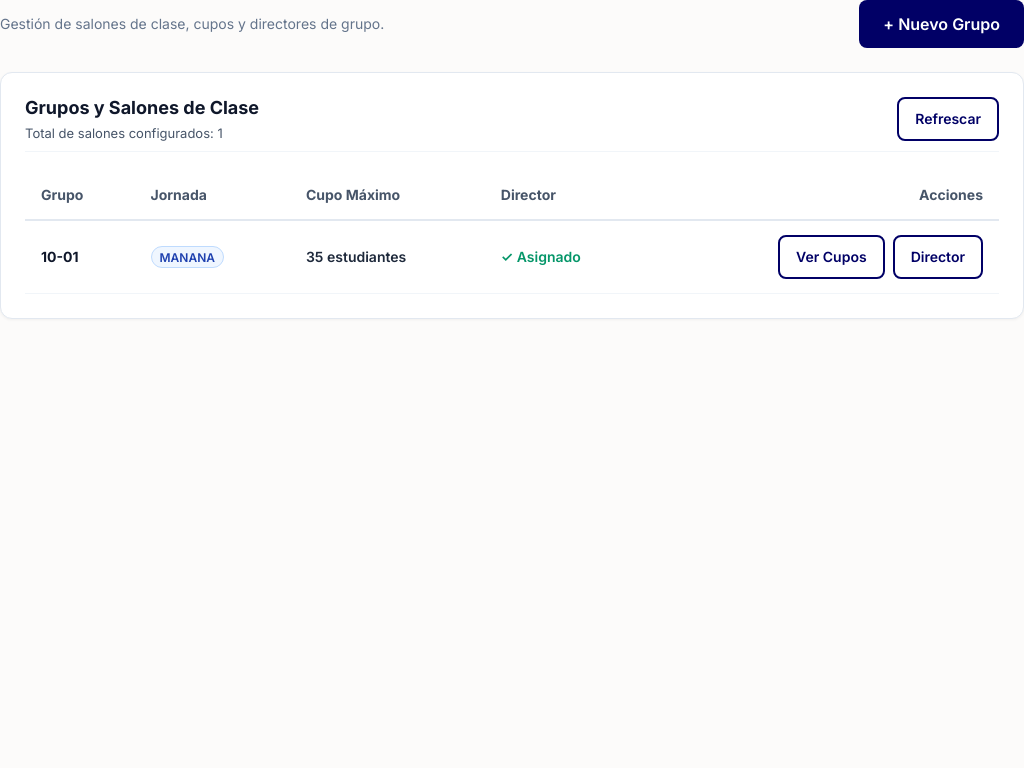
it: Academic Management Views › renders GroupsView and opens real-time capacity inspector modal
The width and height of the screenshot is (1024, 768).
Expected: the text "10-01" is shown, [25,220,134,293]
Click the button "Ver Cupos" at (831, 257), box [778,235,885,279]
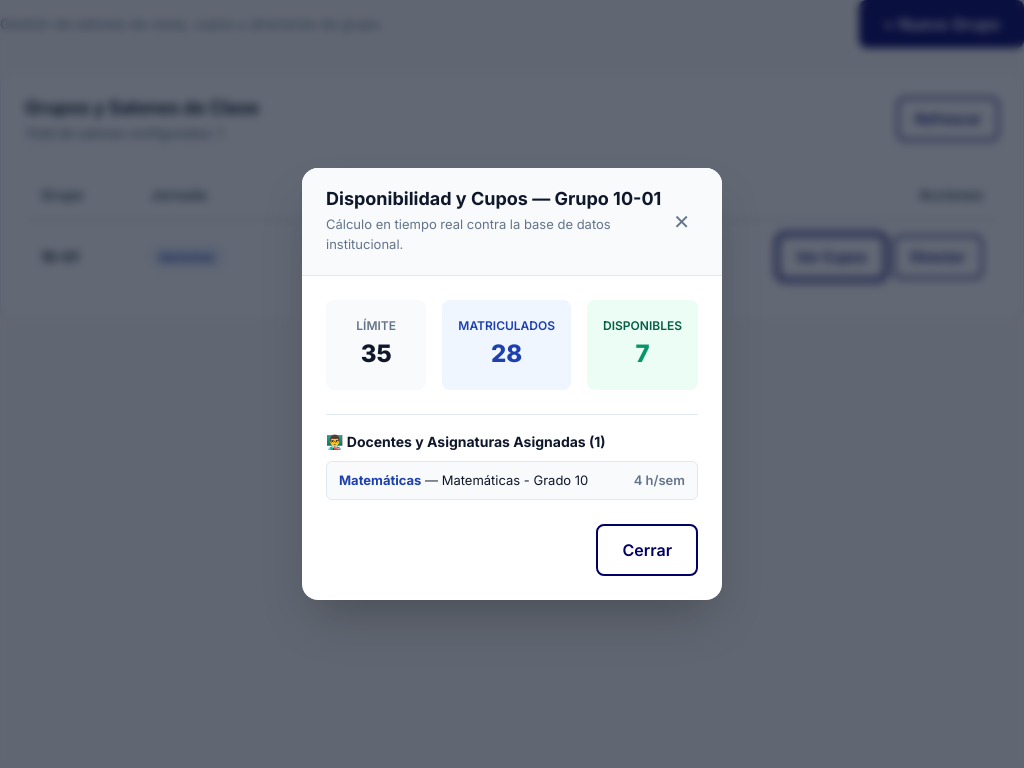
Result: the heading "Disponibilidad y Cupos — Grupo 10-01" is shown at [326,188,665,210]
Result: the text "28" is shown at [491,339,522,368]
Result: the text "7" is shown at [636,339,650,368]
